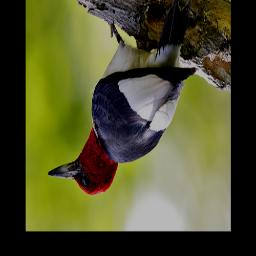Woodpecker: (49, 0, 196, 193)
